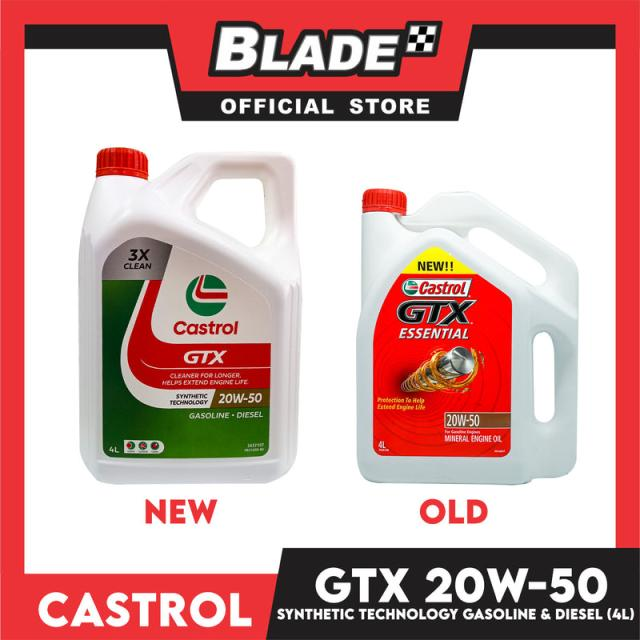motor_oil: (77, 141, 306, 487), (351, 177, 590, 490)
